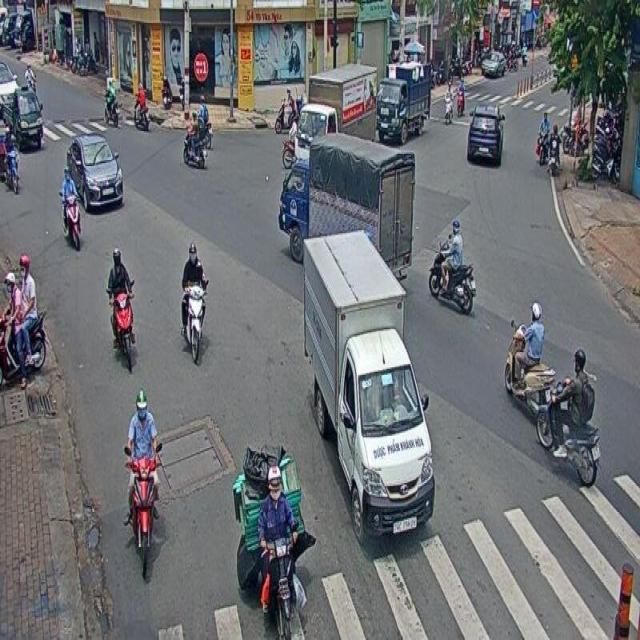car: (66, 131, 126, 207), (465, 102, 501, 171)
motorcycle: (234, 445, 316, 640), (537, 346, 601, 486), (123, 382, 164, 578), (0, 248, 50, 390), (508, 296, 554, 422), (430, 216, 474, 314), (109, 246, 138, 370), (182, 238, 208, 361), (58, 166, 83, 255), (2, 126, 24, 194), (184, 111, 205, 172)
truck: (292, 238, 436, 546), (276, 130, 414, 284), (378, 67, 430, 149)
